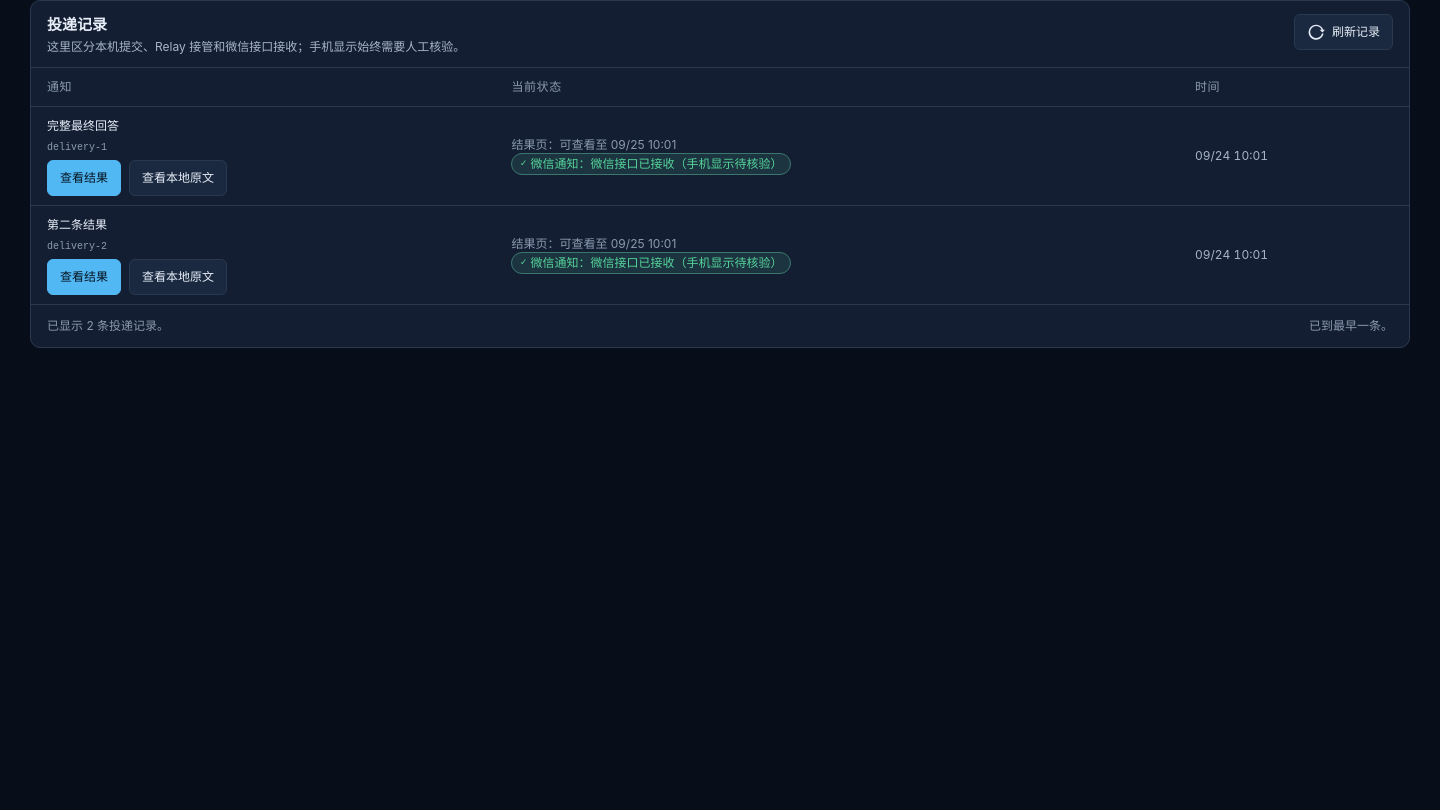
Scenario: DeliveriesView › 较早选中项的元数据晚到时不会覆盖当前选中 ID
What coordinates should you click on to do the following:
click the button "查看本地原文" below "delivery-1"
I would click on:
 (178, 178)
Its box is [129, 160, 227, 196].
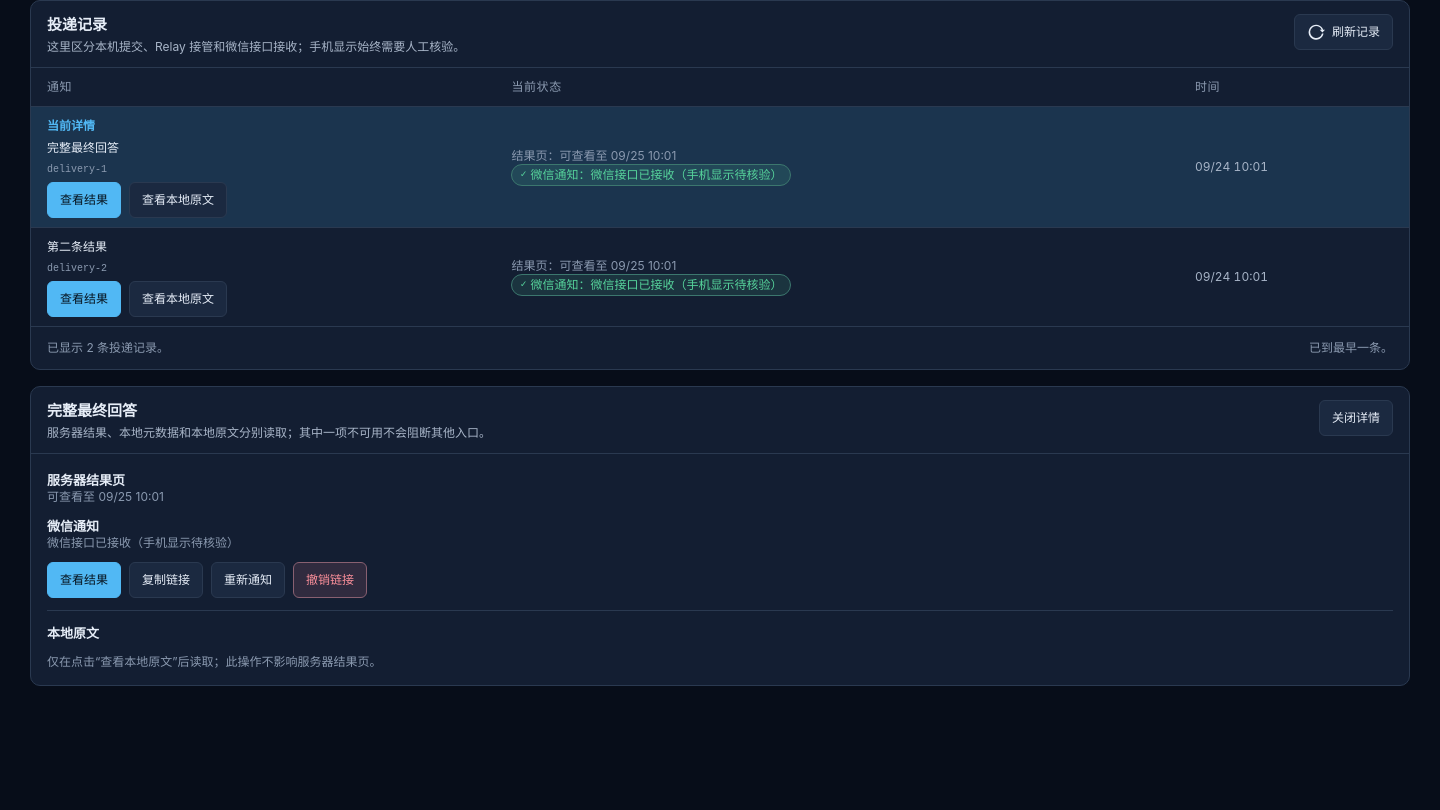
What coordinates should you click on to do the following:
click the button "查看本地原文" below "delivery-2"
I would click on:
 (178, 299)
Its box is [129, 281, 227, 317].
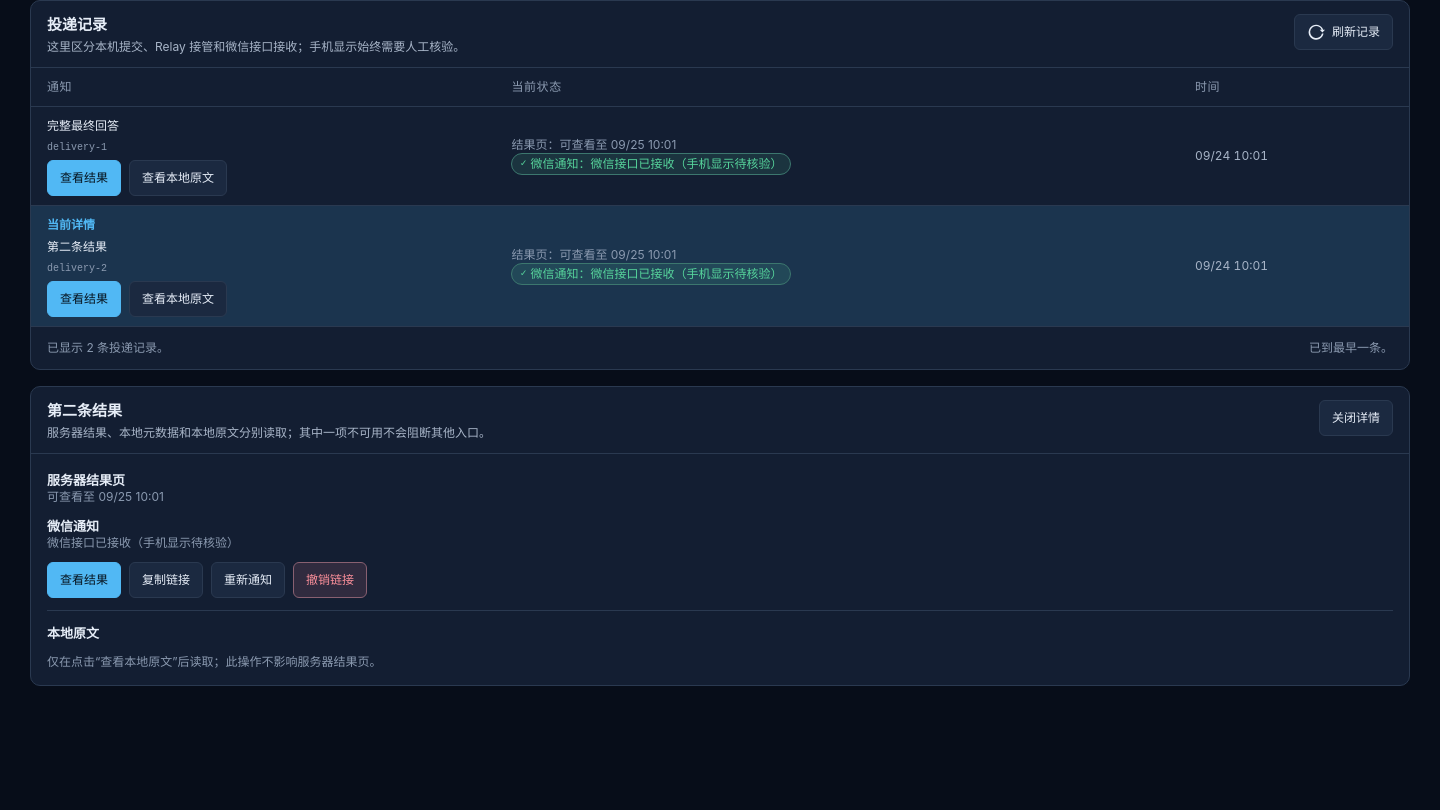
Expected: the text with class "data-table__title" reads "第二条结果", [47, 239, 107, 254]
Expected: the heading "第二条结果" is shown, [47, 401, 122, 420]
